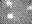person: (24, 6, 31, 11), (7, 12, 12, 18), (5, 1, 12, 5)
